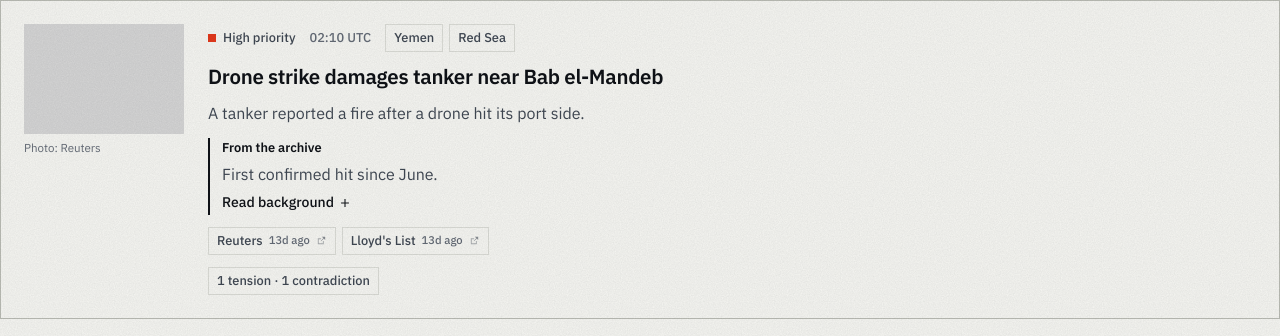
Test: DevelopmentCard › the archive toggle reads Read background, then Show less
Click the button "Read background" at (286, 203), box [222,191,350,215]
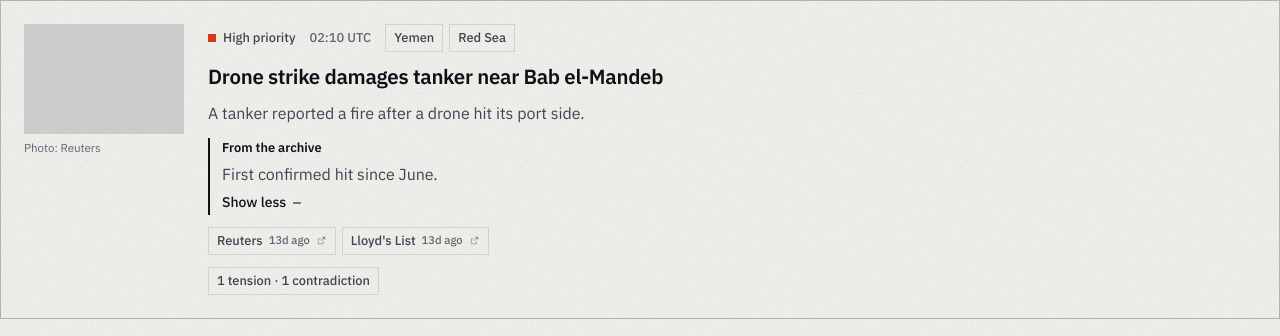
Check: the text with class "dev-context-full" reads "First confirmed hit since June.", box [222,164,438,184]
Check: the button "Show less" is expanded, box [222,191,302,215]
Check: the button "Show less" is shown, box [222,191,302,215]
